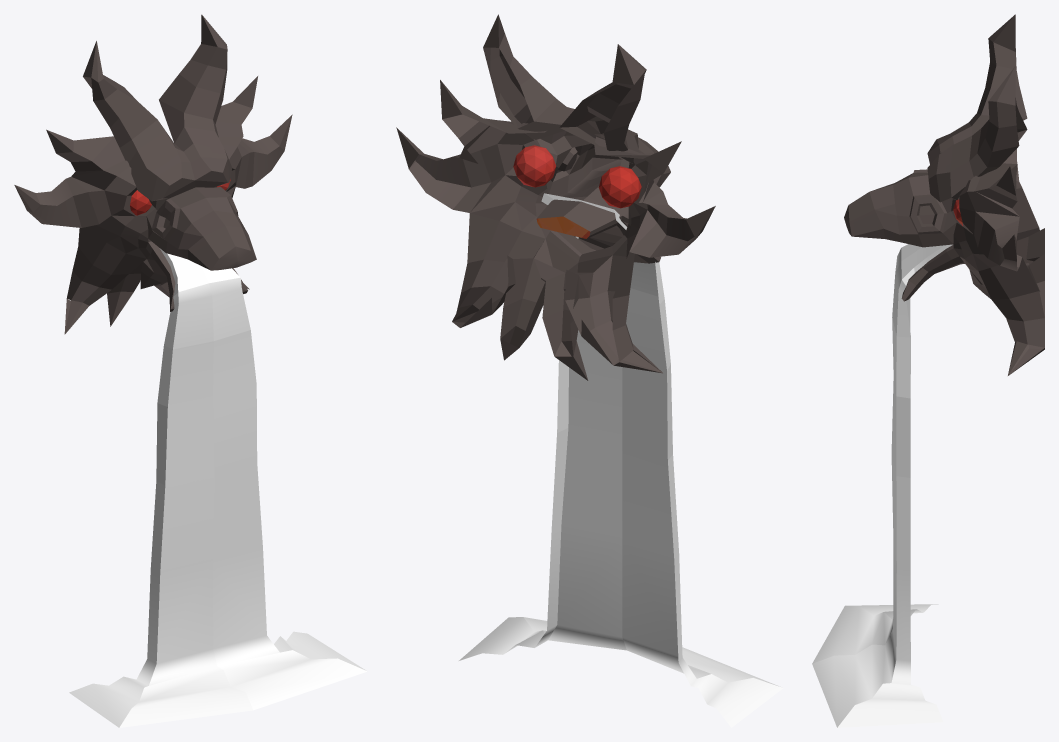
File: lavaTrap.fbx
3 views of the same model, side by side, from view 1: azimuth 30°, elevation 25°; view 2: azimuth 150°, elevation 25°; view 3: azimuth 270°, elevation 25° (orthographic). The views are drawn at different scales.
Parts seen in each view (by area): view 1: laveTrapLava, lavaTrap; view 2: lavaTrap, laveTrapLava; view 3: lavaTrap, laveTrapLava.
Part boxes in pixels (bbox=[...]): laveTrapLava: bbox=[69, 248, 367, 727]; lavaTrap: bbox=[14, 14, 292, 334]; lavaTrap: bbox=[396, 14, 715, 380]; laveTrapLava: bbox=[459, 193, 783, 727]; lavaTrap: bbox=[844, 14, 1044, 375]; laveTrapLava: bbox=[812, 244, 952, 727].
Size of the model in its own units: 3.34 by 6.99 by 2.37.
3 materials, 3 textured.
